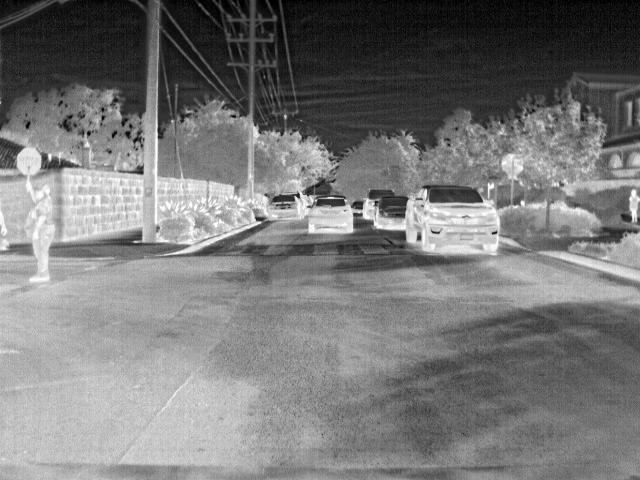car: (406, 183, 501, 256), (309, 195, 354, 234), (375, 194, 413, 231), (364, 188, 398, 220), (268, 194, 307, 219), (295, 191, 310, 215), (352, 200, 365, 214)
person: (26, 183, 55, 284), (628, 188, 640, 223)
